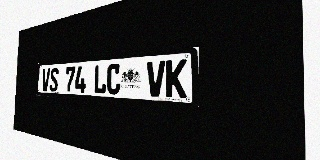4: (75, 66, 86, 93)
7: (65, 66, 75, 93)
C: (106, 63, 121, 95)
K: (165, 59, 187, 98)
L: (93, 64, 107, 94)
S: (49, 68, 59, 92)
V: (146, 60, 165, 97), (41, 68, 50, 91)
